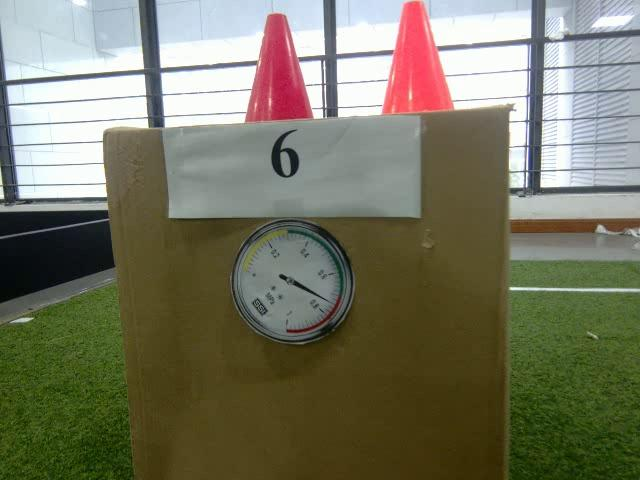6: (271, 128, 303, 179)
Dashboard: (231, 221, 353, 345)
orange_barrel: (380, 0, 452, 112)
red_barrel: (246, 12, 319, 120)
ssi: (249, 298, 268, 317)
